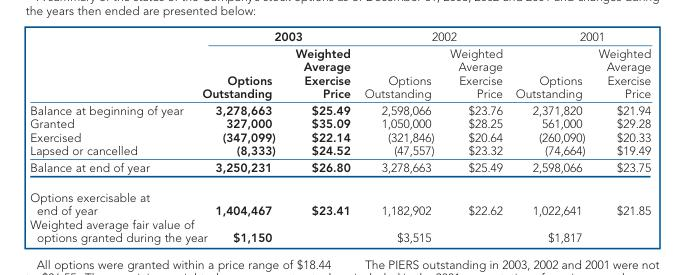table: (29, 28, 650, 243)
table column: (29, 28, 204, 243), (356, 28, 441, 243), (508, 28, 591, 243), (204, 28, 284, 243), (284, 28, 356, 243), (441, 28, 508, 243), (591, 28, 650, 243)
table column header: (29, 28, 650, 101)
table row: (29, 44, 650, 101), (29, 181, 650, 216), (29, 216, 650, 243), (29, 158, 650, 181), (29, 28, 650, 44), (29, 101, 650, 116), (29, 143, 650, 158), (29, 129, 650, 143), (29, 116, 650, 129)
table spanning cell: (204, 28, 356, 44), (356, 28, 508, 44), (508, 28, 650, 44)
